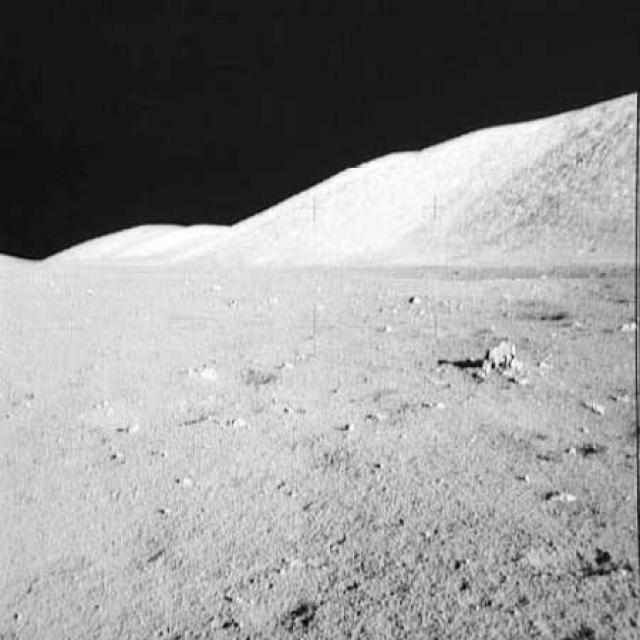crater: (504, 303, 572, 326)
rock: (467, 332, 536, 380), (580, 390, 608, 420), (404, 286, 425, 308)
